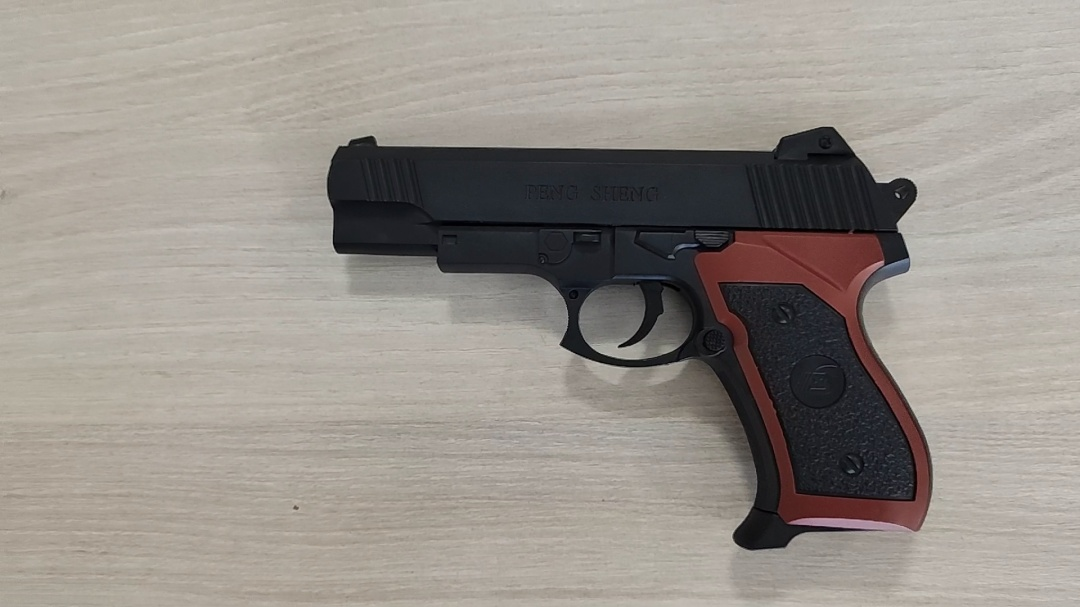gunw: (328, 129, 936, 552)
